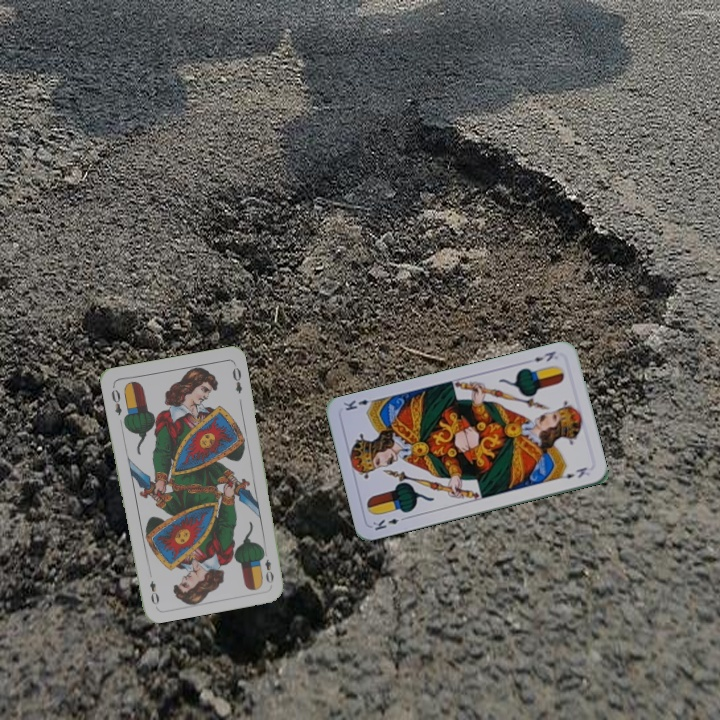EK: (368, 513, 409, 533), (530, 347, 558, 364)
EO: (258, 546, 276, 586), (107, 385, 124, 418)
